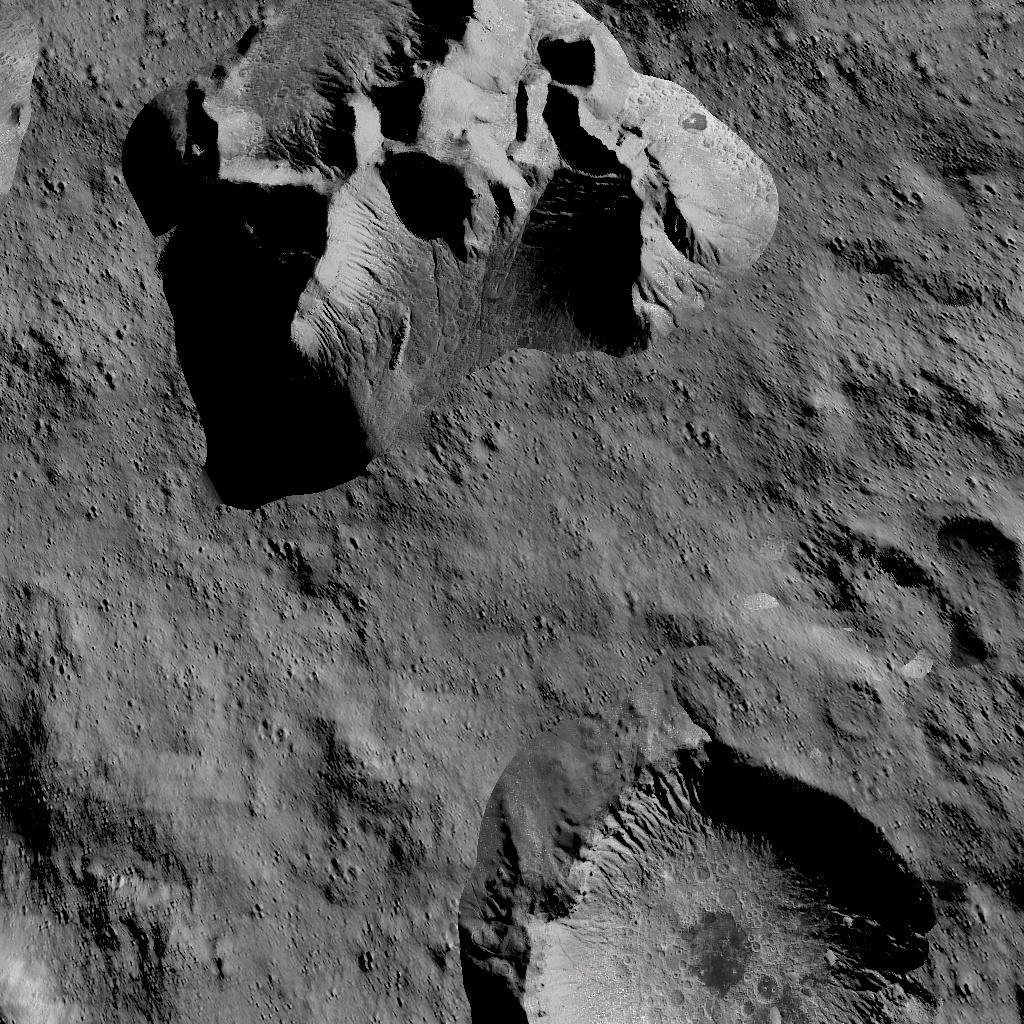Boulders: (121, 0, 783, 507), (0, 2, 53, 214)
Crater: (469, 726, 961, 1024), (921, 508, 1024, 638)
Plan surface: (185, 522, 455, 1024), (795, 4, 1024, 480), (467, 516, 804, 713)
